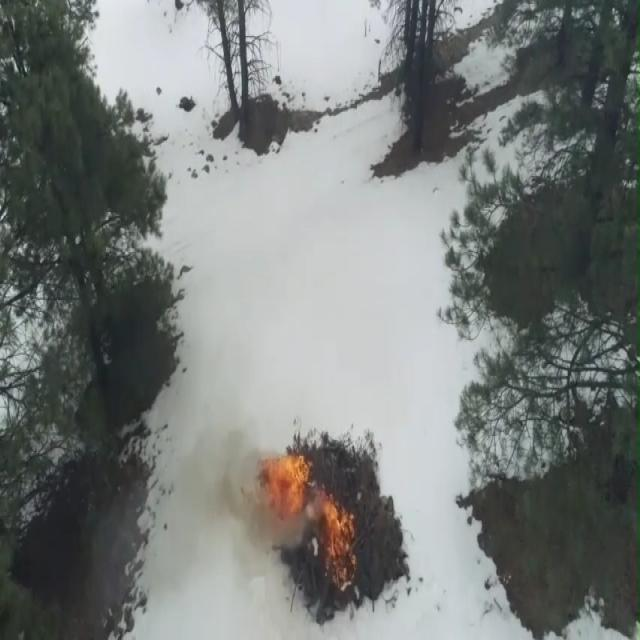Fire: (260, 454, 310, 514), (324, 494, 354, 562)
Smoke: (180, 432, 256, 518)
